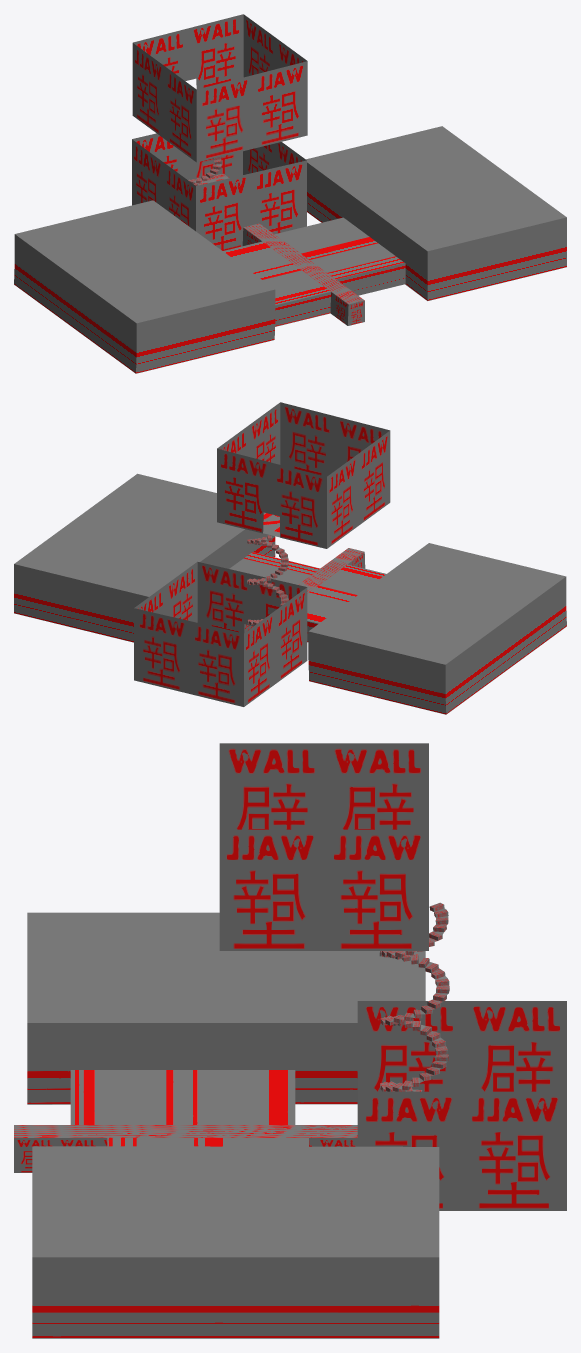
File: testmappy.obj
3 renders of one model, top to bottom at view 1: azimuth 30°, elevation 25°; view 2: azimuth 150°, elevation 25°; view 3: azimuth 270°, elevation 25°, orthographic. The views are drawn at different scales.
Visible parts, largest first — view 1: Plane; view 2: Plane; view 3: Plane.
Part boxes in pixels (x1,y1,x2,y2): Plane: (14, 14, 566, 373); Plane: (14, 402, 566, 714); Plane: (14, 743, 566, 1338).
Size of the model in its own units: 62.46 by 29.46 by 42.37.
